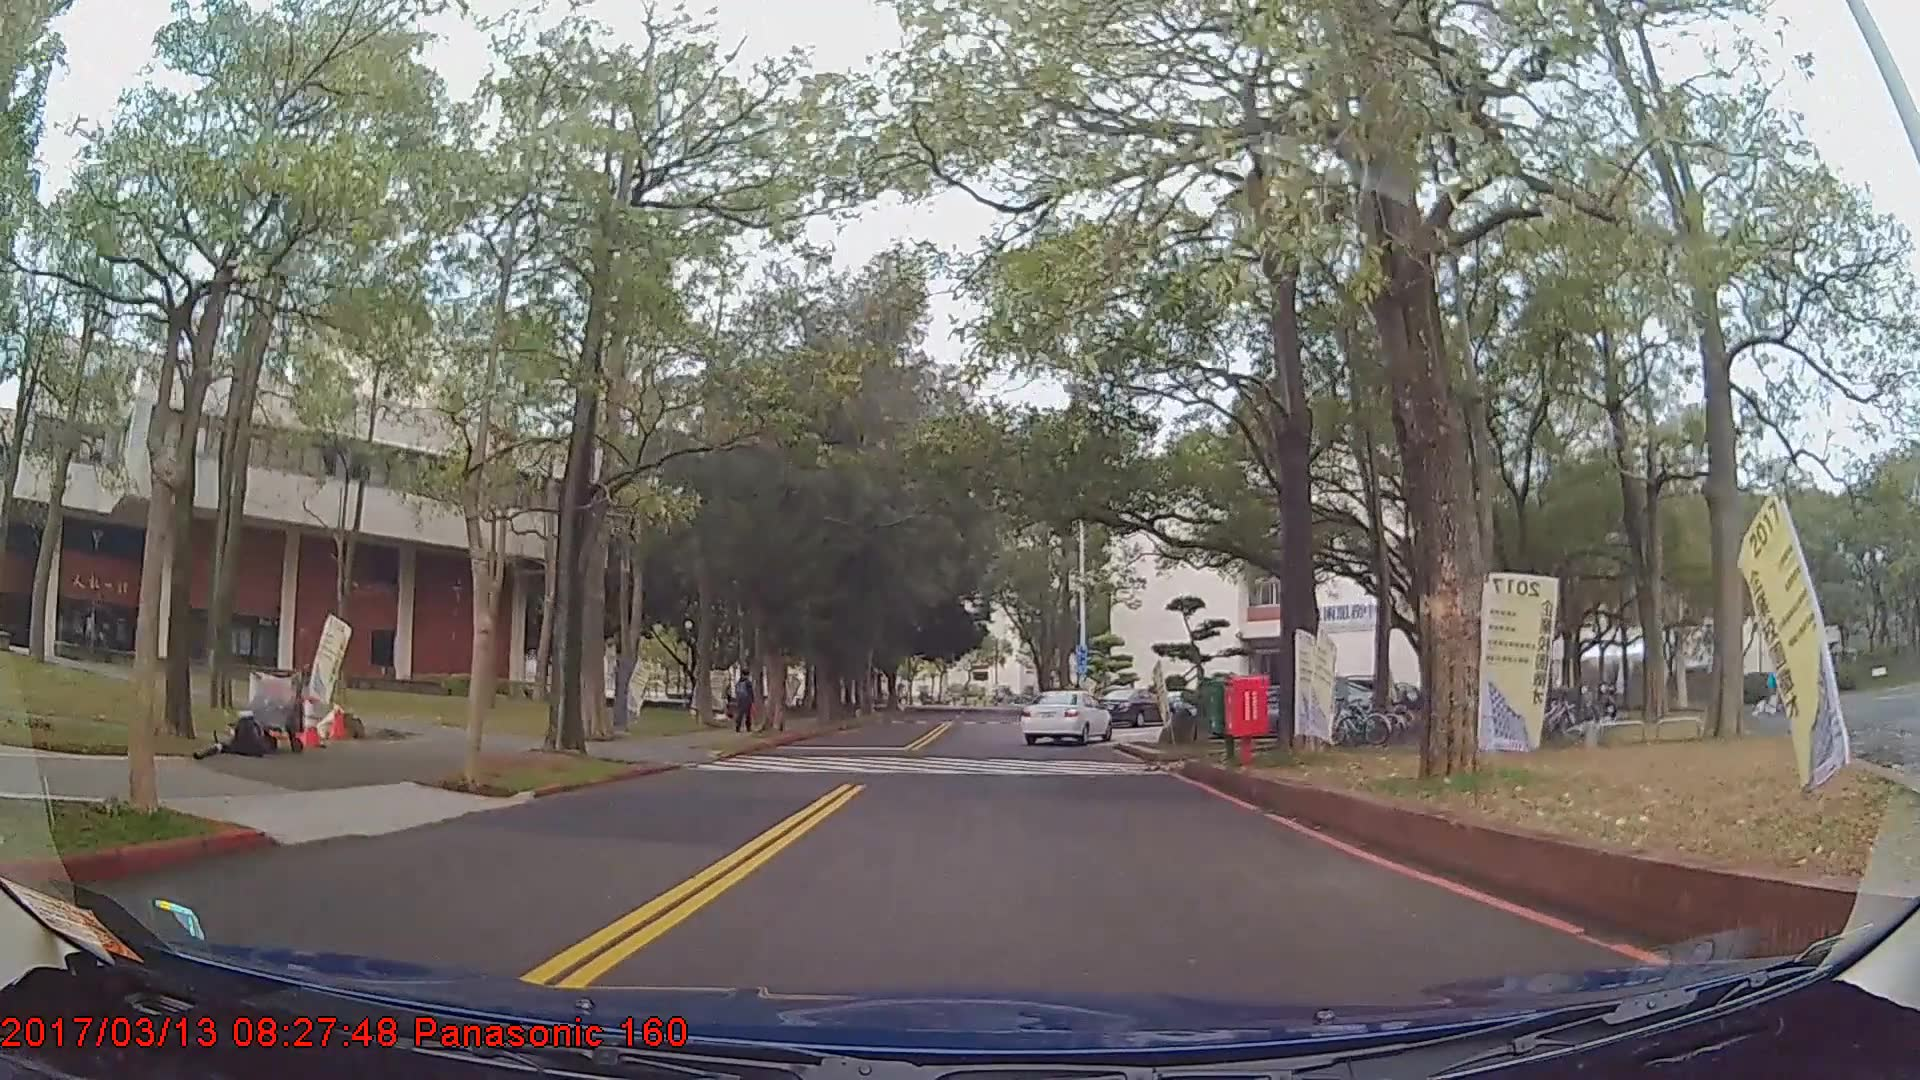pedestrian: (734, 667, 759, 730)
vehicle: (1020, 688, 1111, 747), (1096, 683, 1174, 725)
